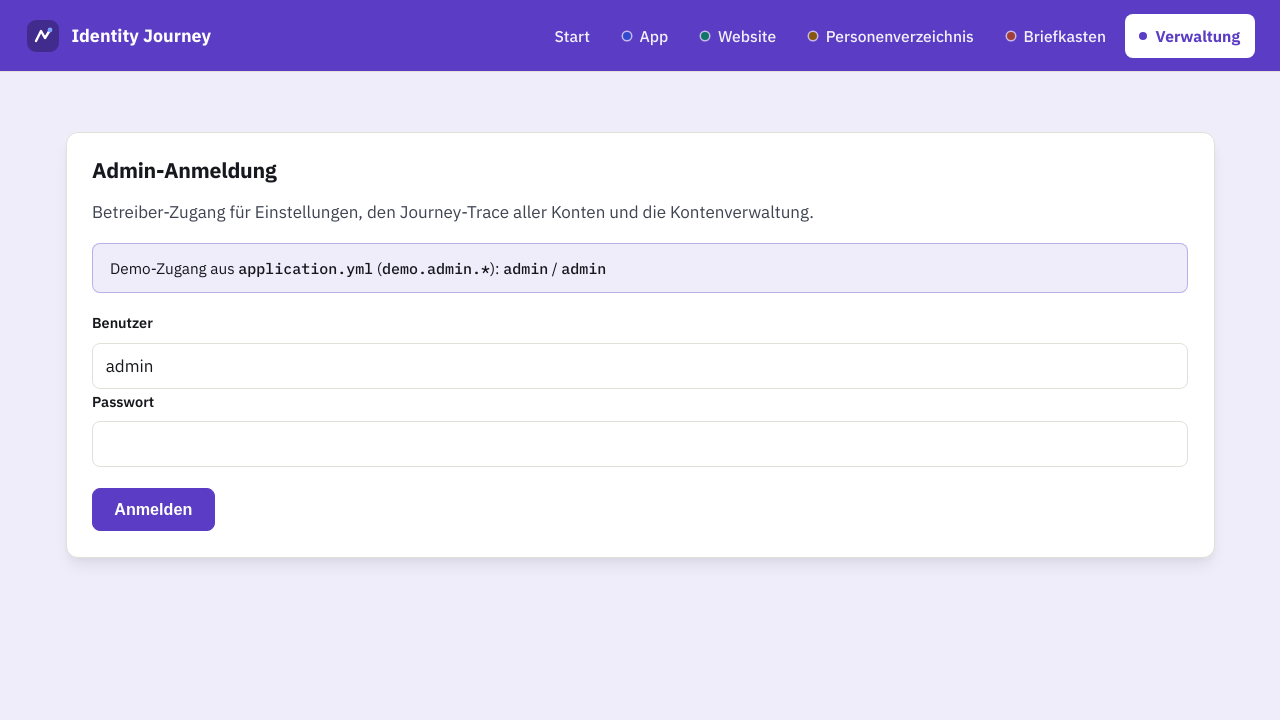
Scenario: AdminApp › keeps the login form on wrong credentials
The width and height of the screenshot is (1280, 720).
Step 1. Type "falsch" into the password field labelled "Passwort" → (640, 444), box top-left (92, 421), bottom-right (1188, 467)
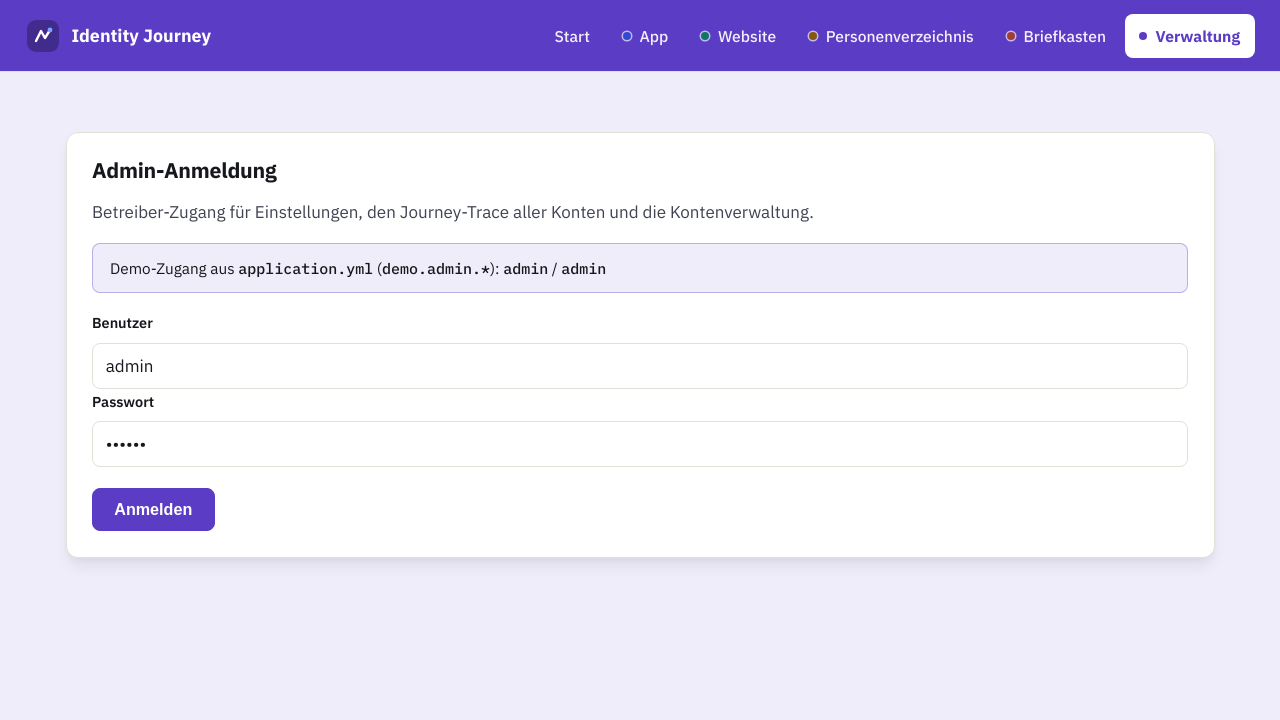
Step 2. Click the button "Anmelden" → (153, 510), box top-left (92, 488), bottom-right (214, 532)
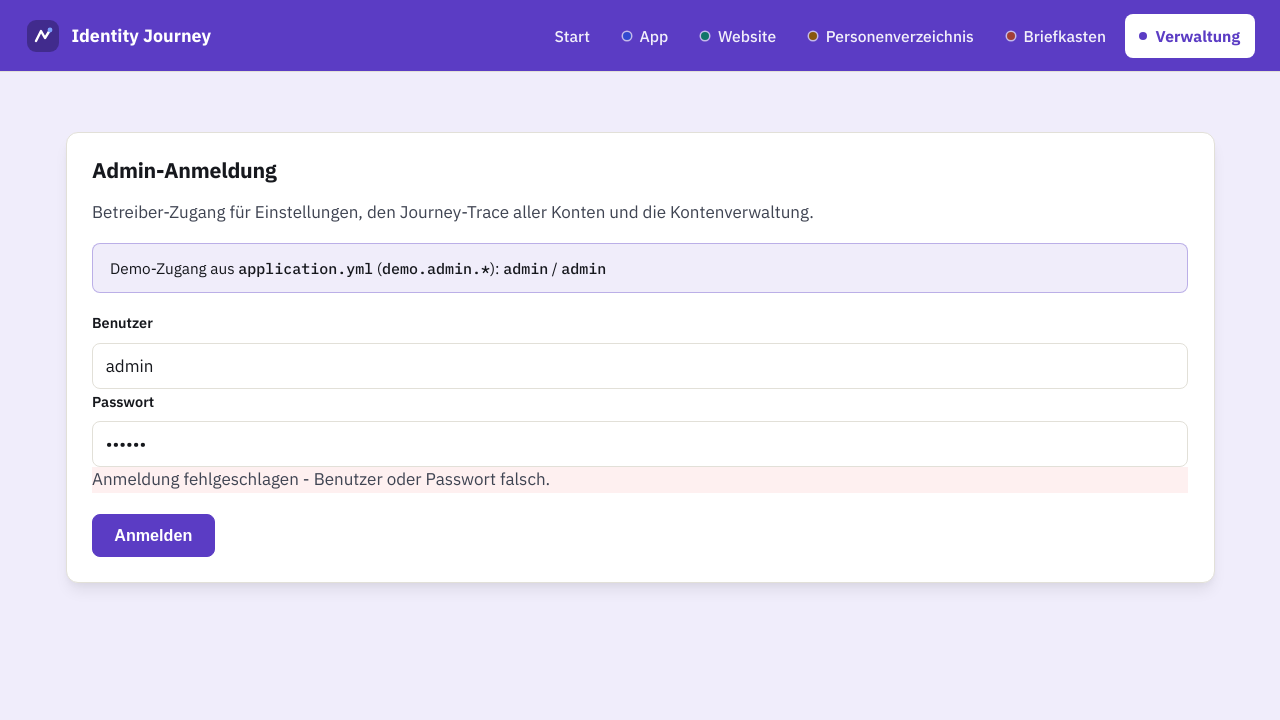
Check: the text "Anmeldung fehlgeschlagen - Benutzer oder Passwort falsch." is shown, box top-left (92, 467), bottom-right (1188, 493)
